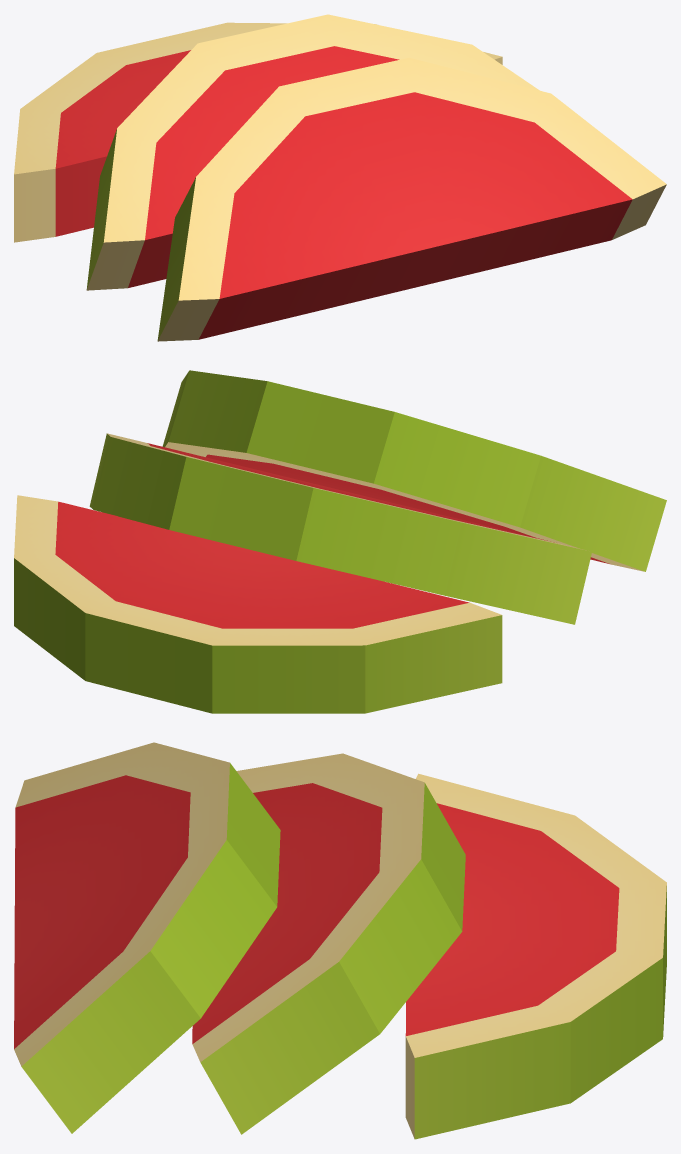
The model's file is Red Pomelo Slice.fbx.
3 views of the same model, one above another, from view 1: azimuth 30°, elevation 25°; view 2: azimuth 150°, elevation 25°; view 3: azimuth 270°, elevation 25° (orthographic). The views are drawn at different scales.
Visible parts, largest first — view 1: Red Pomelo Slice.002, Red Pomelo Slice.001, Red Pomelo Slice; view 2: Red Pomelo Slice, Red Pomelo Slice.002, Red Pomelo Slice.001; view 3: Red Pomelo Slice.002, Red Pomelo Slice, Red Pomelo Slice.001.
Part boxes in pixels (bbox=[...]): Red Pomelo Slice.002: bbox=[157, 57, 666, 341]; Red Pomelo Slice.001: bbox=[86, 14, 539, 290]; Red Pomelo Slice: bbox=[14, 22, 502, 242]; Red Pomelo Slice: bbox=[14, 495, 502, 713]; Red Pomelo Slice.002: bbox=[162, 370, 666, 571]; Red Pomelo Slice.001: bbox=[89, 433, 591, 624]; Red Pomelo Slice.002: bbox=[14, 742, 280, 1133]; Red Pomelo Slice: bbox=[405, 773, 666, 1139]; Red Pomelo Slice.001: bbox=[192, 753, 465, 1134].
Size of the model in its own units: 17.72 by 5.85 by 17.19.
